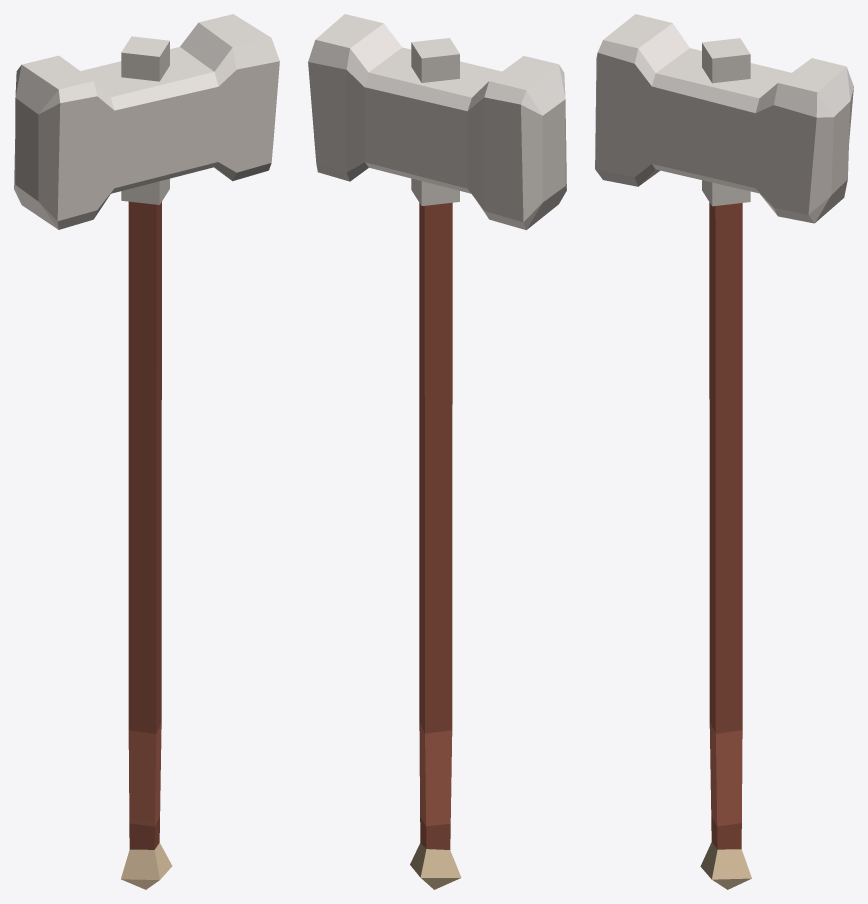
The model's file is hammer_5.glb.
3 renders of one model, left to right at view 1: azimuth 30°, elevation 25°; view 2: azimuth 150°, elevation 25°; view 3: azimuth 330°, elevation 25°, orthographic.
Parts seen in each view (by area): view 1: hammer_5.001; view 2: hammer_5.001; view 3: hammer_5.001.
Part boxes in pixels (x1=…): hammer_5.001: x1=14, y1=14, x2=279, y2=889; hammer_5.001: x1=308, y1=14, x2=566, y2=889; hammer_5.001: x1=595, y1=14, x2=853, y2=889.
Bounding box in the file's own units: 0.2952 × 1 × 0.0936.
Materials: 1 (1 with a texture image).
